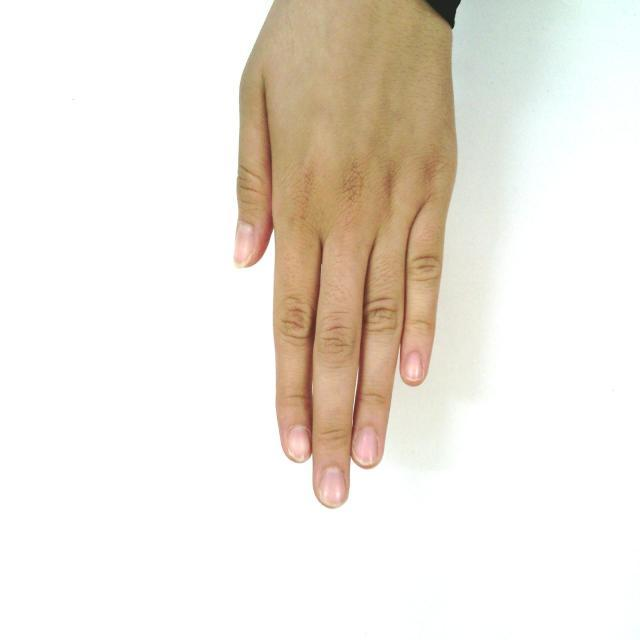Fingernail: (320, 467, 344, 507), (353, 428, 378, 465), (235, 222, 254, 265), (289, 427, 310, 460), (403, 352, 421, 379)
